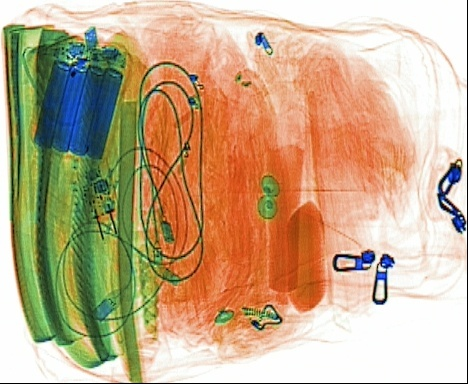powerbank: (28, 36, 127, 161)
